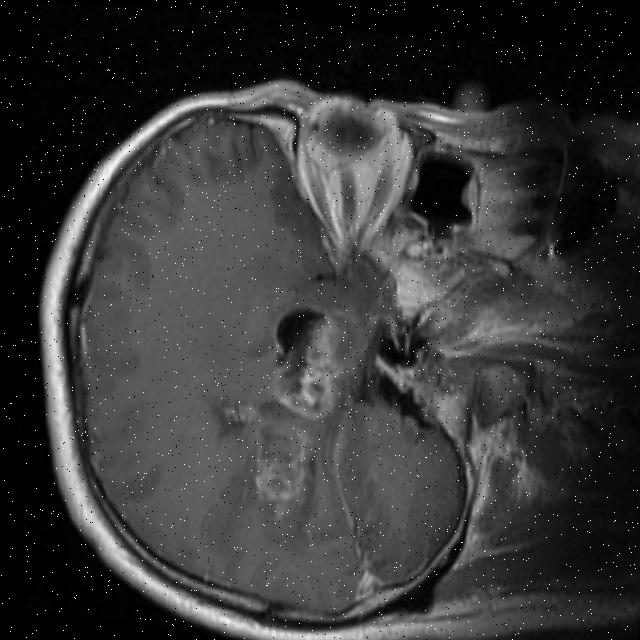Glioma: (261, 298, 348, 424), (245, 418, 318, 529), (200, 392, 261, 444)
